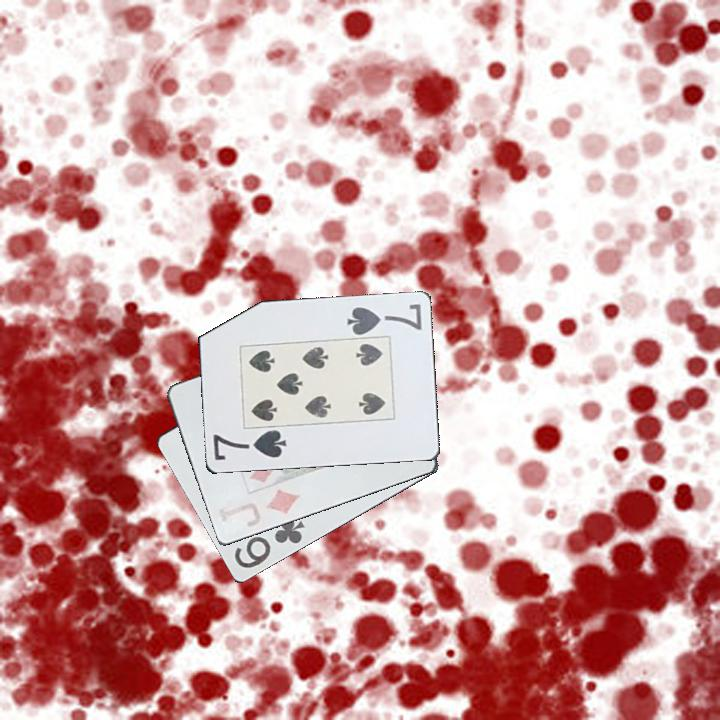6c: (231, 514, 308, 572)
7s: (343, 300, 425, 338), (209, 427, 289, 464)
Jd: (215, 486, 302, 531)
